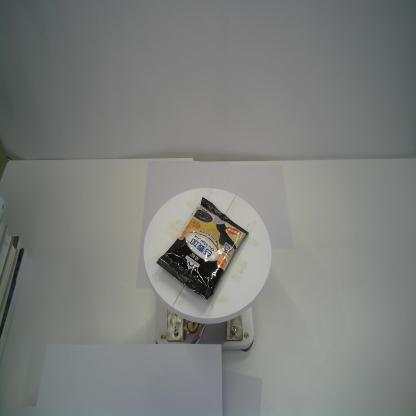Instant Drink: (156, 196, 249, 300)
